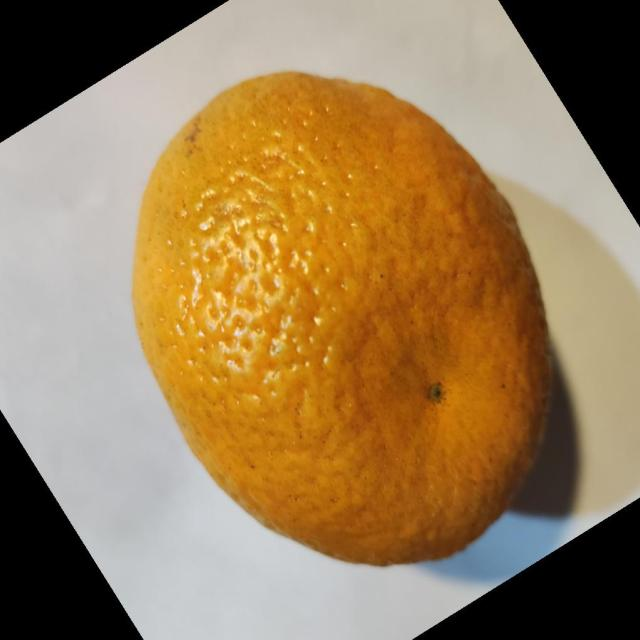fresh orange: (131, 69, 554, 567)
